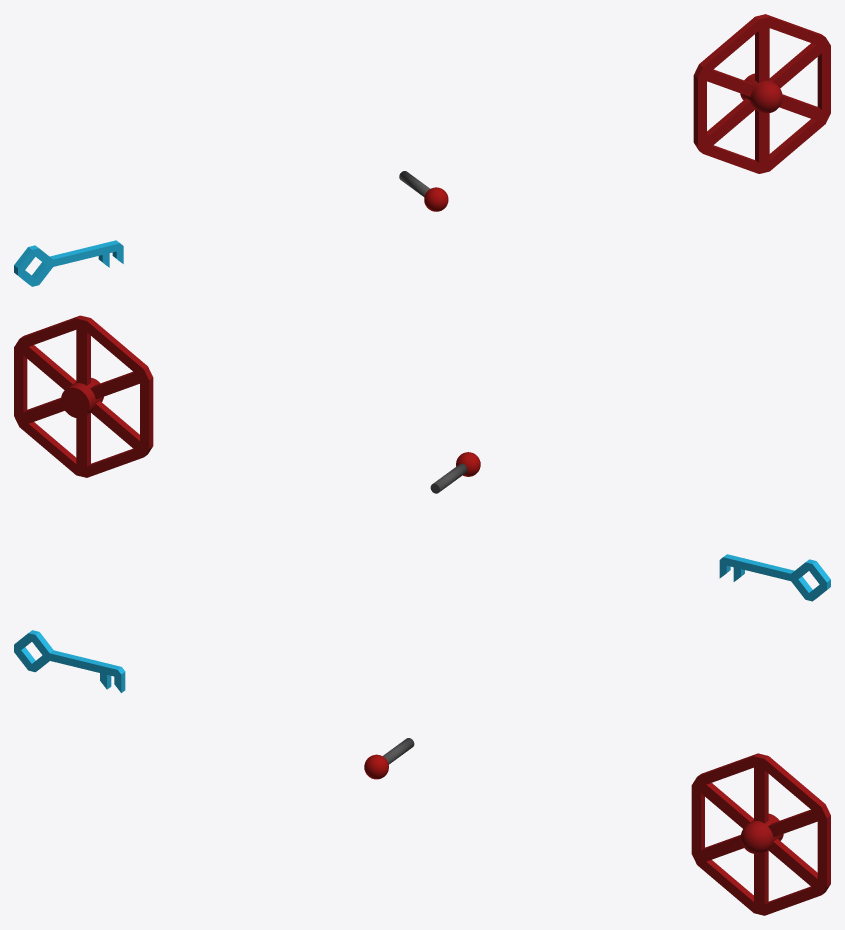
Rendered from Items.fbx.
3 views of the same model, one above another, from view 1: azimuth 30°, elevation 25°; view 2: azimuth 150°, elevation 25°; view 3: azimuth 330°, elevation 25° (orthographic).
Visible parts, largest first — view 1: Valve, Key, Lever Handle; view 2: Valve, Key, Lever Handle; view 3: Valve, Key, Lever Handle.
Part boxes in pixels (x1,y1,x2,y2): Valve: [693, 14, 830, 173]; Key: [14, 240, 123, 286]; Lever Handle: [399, 171, 448, 211]; Valve: [14, 315, 153, 477]; Key: [719, 554, 830, 601]; Lever Handle: [430, 452, 480, 493]; Valve: [691, 753, 830, 915]; Key: [14, 630, 125, 692]; Lever Handle: [364, 738, 414, 779].
Bounding box in the file's own units: 229 × 41.89 × 20.
